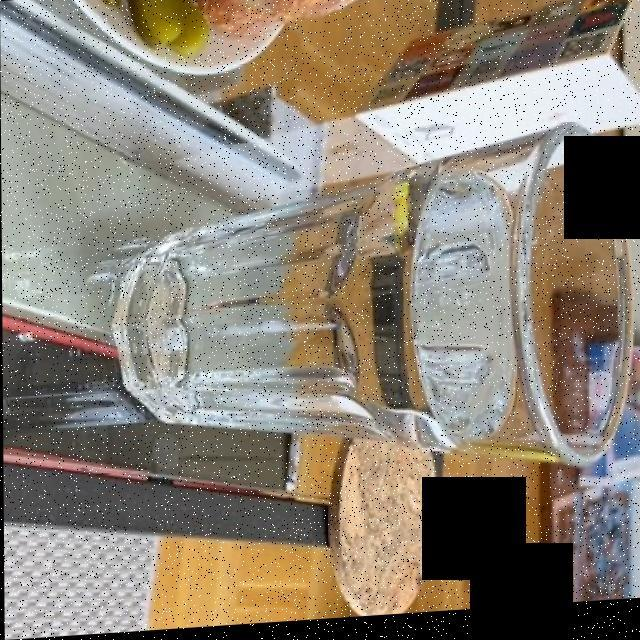water: (155, 174, 478, 437)
